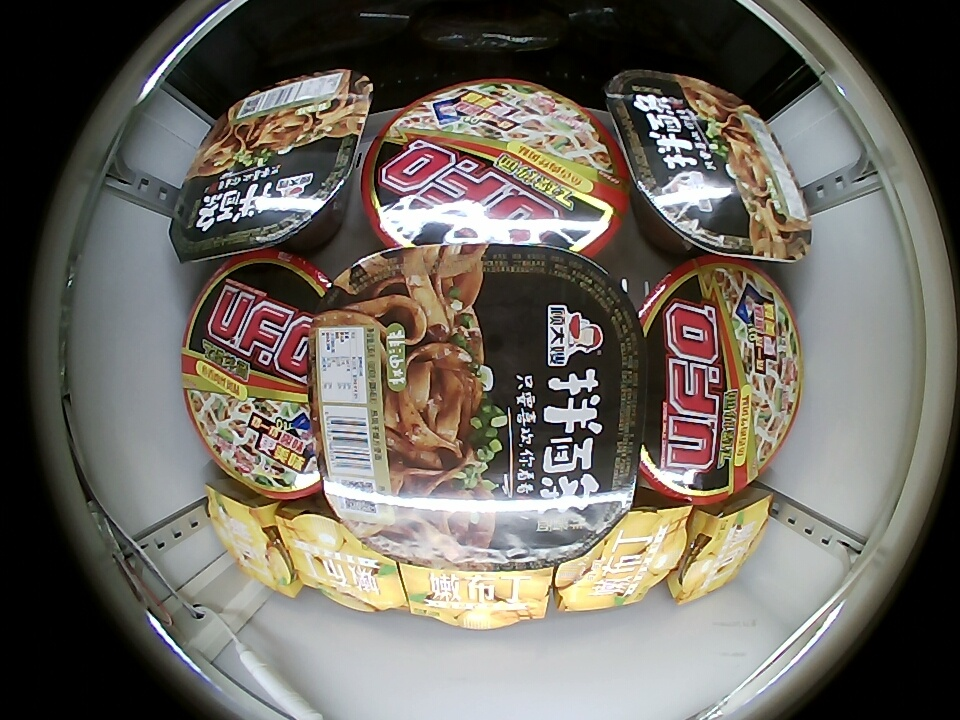buding: (274, 502, 407, 613), (555, 506, 691, 612), (205, 481, 301, 598), (669, 495, 771, 604), (396, 563, 554, 630)
gudasao: (315, 244, 644, 571), (607, 71, 816, 263), (168, 69, 372, 264)
ufo2: (361, 78, 629, 254), (636, 255, 801, 501), (183, 252, 327, 500)
